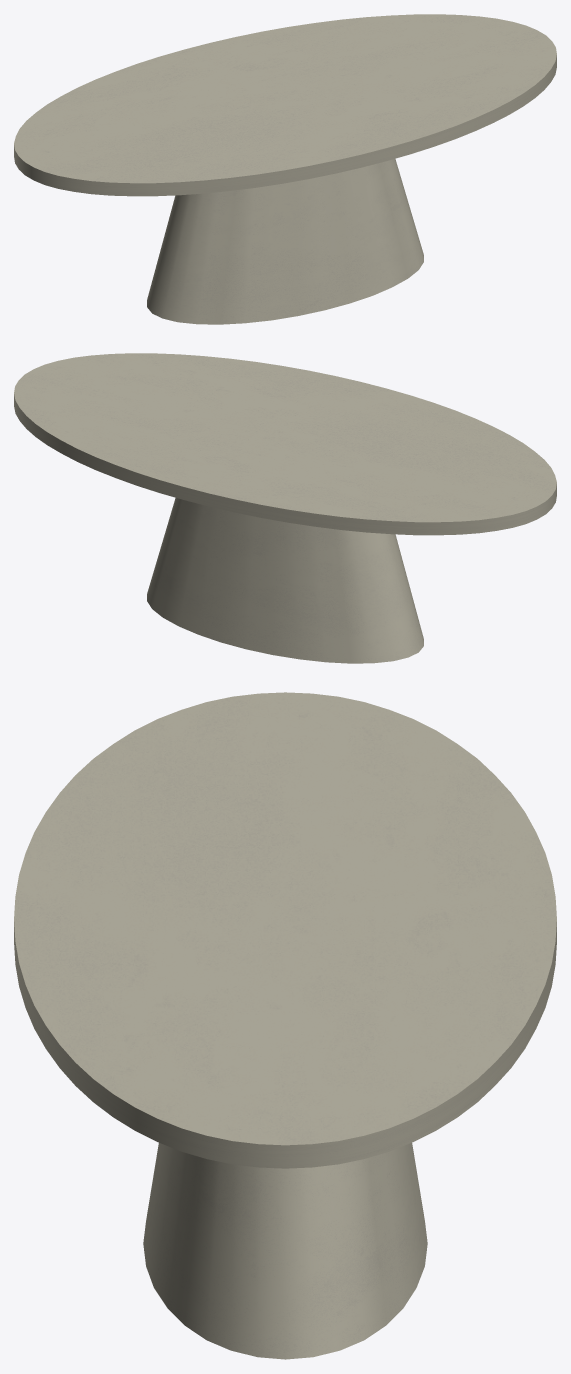
Rendered from silk_ellips_standard_eqone.glb.
The picture shows the model from 3 angles, top to bottom: view 1: azimuth 30°, elevation 25°; view 2: azimuth 150°, elevation 25°; view 3: azimuth 270°, elevation 25°; orthographic projection. The views are drawn at different scales.
Parts seen in each view (by area): view 1: silk_ellipsstandard_eqone; view 2: silk_ellipsstandard_eqone; view 3: silk_ellipsstandard_eqone.
Part boxes in pixels (bbox=[...]): silk_ellipsstandard_eqone: bbox=[14, 14, 556, 324]; silk_ellipsstandard_eqone: bbox=[14, 353, 556, 663]; silk_ellipsstandard_eqone: bbox=[14, 692, 556, 1359].
Size of the model in its own units: 7.5 by 2.51 by 3.8.
Materials: 1 (1 with a texture image).
